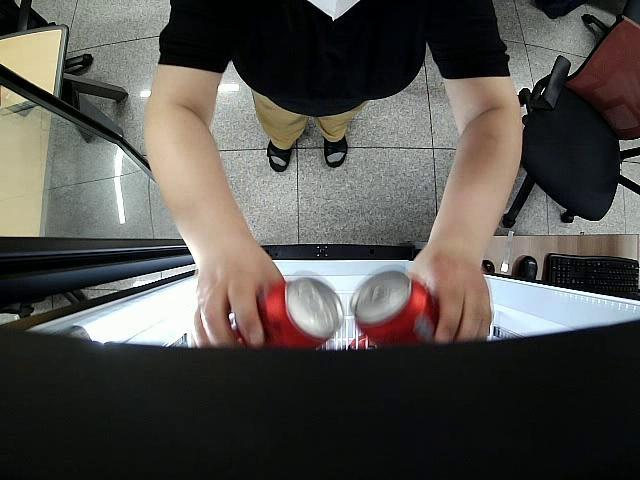11_cocaColaZero: (234, 274, 342, 350), (352, 270, 440, 347)
